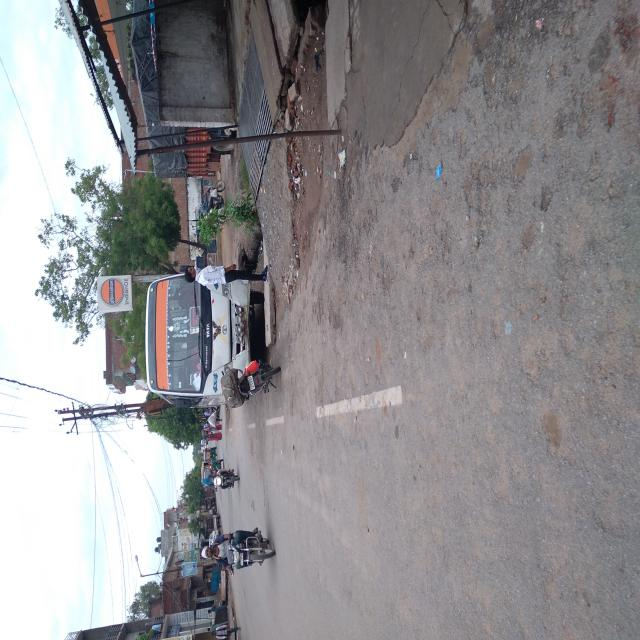Bus: (174, 188, 263, 312)
